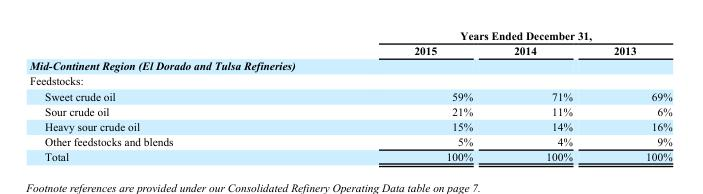table: (28, 28, 671, 162)
table column: (28, 28, 292, 162), (292, 28, 492, 162), (492, 28, 592, 162), (592, 28, 671, 162)
table column header: (28, 28, 671, 57)
table projected row header: (28, 72, 671, 88), (28, 57, 671, 72)
table row: (28, 72, 671, 88), (28, 42, 671, 57), (28, 57, 671, 72), (28, 88, 671, 103), (28, 103, 671, 118), (28, 118, 671, 133), (28, 133, 671, 148), (28, 28, 671, 42), (28, 148, 671, 162)
table spanning cell: (292, 28, 671, 42)
